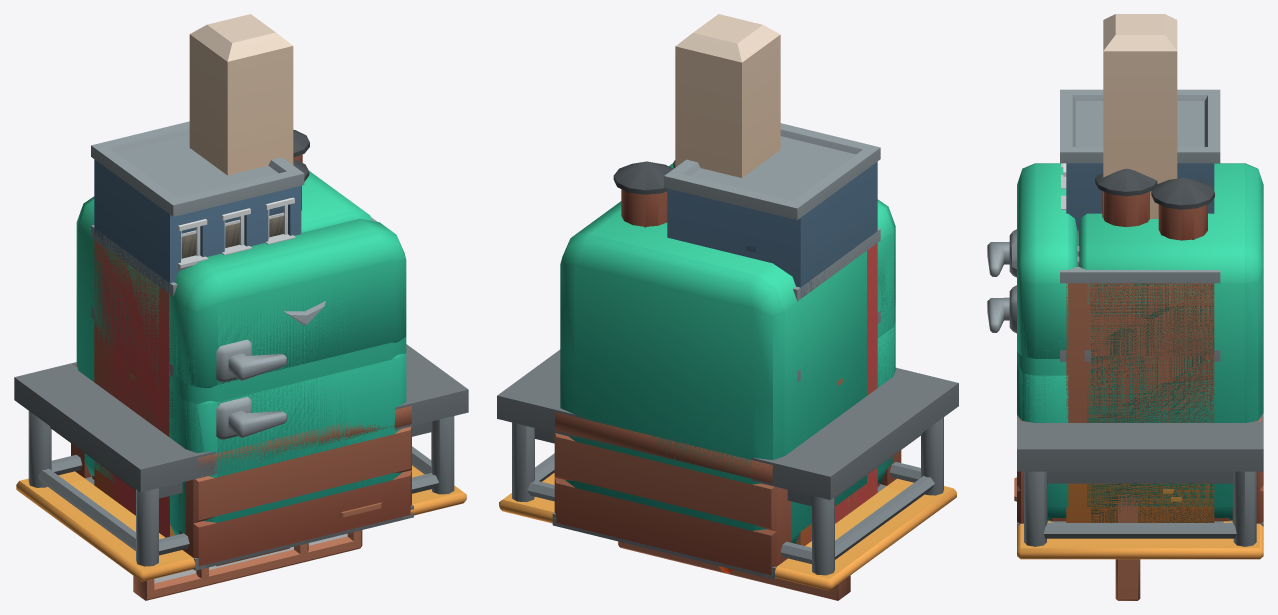
The model's file is kit.glb.
3 renders of one model, left to right at view 1: azimuth 30°, elevation 25°; view 2: azimuth 150°, elevation 25°; view 3: azimuth 270°, elevation 25°, orthographic. The views are drawn at different scales.
Parts seen in each view (by area): view 1: fridge_B_door, kitchentable_A_large, building_H, fridge_A_door_top, crate, pillar_A, fridge_A_door_bottom, building_F, fridge_A, rug_rectangle_stripes_A, building_E, pictureframe_large_B (+3 smaller); view 2: fridge_A, building_H, kitchentable_A_large, crate, pillar_A, rug_rectangle_stripes_A, table_medium, building_F, fridge_B_door, pictureframe_large_B, fridge_A_door_bottom, building_A (+2 smaller); view 3: building_E, fridge_A, kitchentable_A_large, building_H, pillar_A, building_G, fridge_B_door, rug_rectangle_stripes_A, fridge_A_door_top, fridge_A_door_bottom, building_D, pictureframe_large_B (+2 smaller).
Boxes of the visible parts, box(x1,y1,x2,y2) form: fridge_B_door: box(169, 218, 406, 534); kitchentable_A_large: box(14, 344, 468, 566); building_H: box(91, 121, 309, 376); fridge_A_door_top: box(169, 242, 406, 387); crate: box(71, 426, 411, 566); pillar_A: box(189, 14, 293, 175); fridge_A_door_bottom: box(169, 353, 406, 535); building_F: box(94, 230, 176, 537); fridge_A: box(76, 171, 372, 484); rug_rectangle_stripes_A: box(16, 465, 466, 581); building_E: box(91, 219, 374, 536); pictureframe_large_B: box(133, 530, 362, 600); fridge_A: box(560, 201, 866, 543); building_H: box(613, 123, 880, 382); kitchentable_A_large: box(497, 349, 958, 575); crate: box(554, 433, 901, 575); pillar_A: box(675, 14, 780, 177); rug_rectangle_stripes_A: box(499, 473, 956, 590); table_medium: box(555, 412, 772, 483); building_F: box(793, 231, 877, 545); fridge_B_door: box(669, 163, 895, 474); pictureframe_large_B: box(618, 496, 850, 600); fridge_A_door_bottom: box(877, 321, 895, 484); building_A: box(552, 484, 886, 579); building_E: box(1060, 270, 1220, 522); fridge_A: box(1078, 163, 1263, 520); kitchentable_A_large: box(1017, 413, 1263, 546); building_H: box(1060, 89, 1220, 361); pillar_A: box(1103, 14, 1177, 218); building_G: box(1077, 230, 1218, 522); fridge_B_door: box(987, 163, 1078, 422); rug_rectangle_stripes_A: box(1017, 521, 1263, 559); fridge_A_door_top: box(987, 229, 1076, 358); fridge_A_door_bottom: box(987, 303, 1068, 520); building_D: box(1014, 168, 1157, 501); pictureframe_large_B: box(1115, 485, 1140, 600).
Size of the model in its own units: 3 by 4.7 by 2.24.
Materials: 3 (3 with a texture image).
